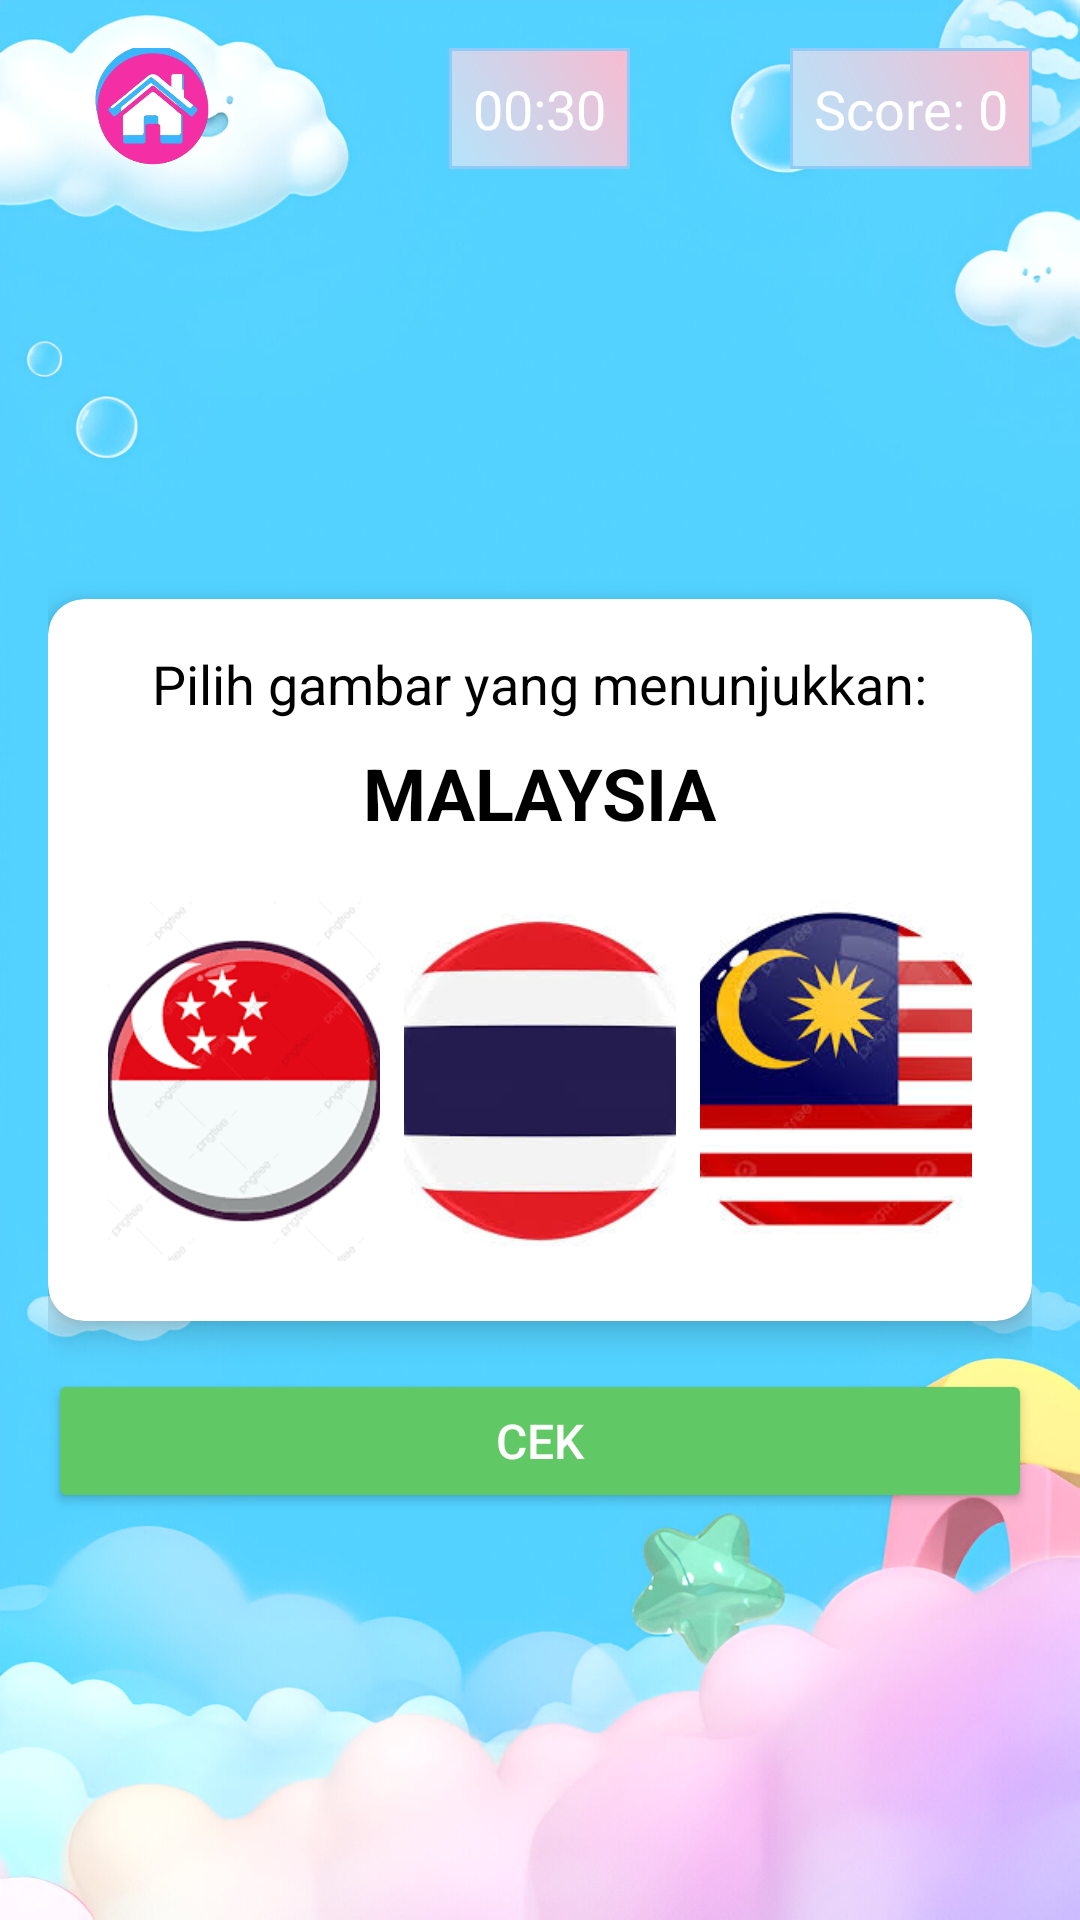

Locate icon controls on the screen. Image size 1080w x 1920h, boxes as [x1=x1, y1=y1, x2=x2, y2=y2].
Bendera Singapura: [x1=108, y1=917, x2=380, y2=1235]
Bendera Thailand: [x1=404, y1=921, x2=676, y2=1241]
